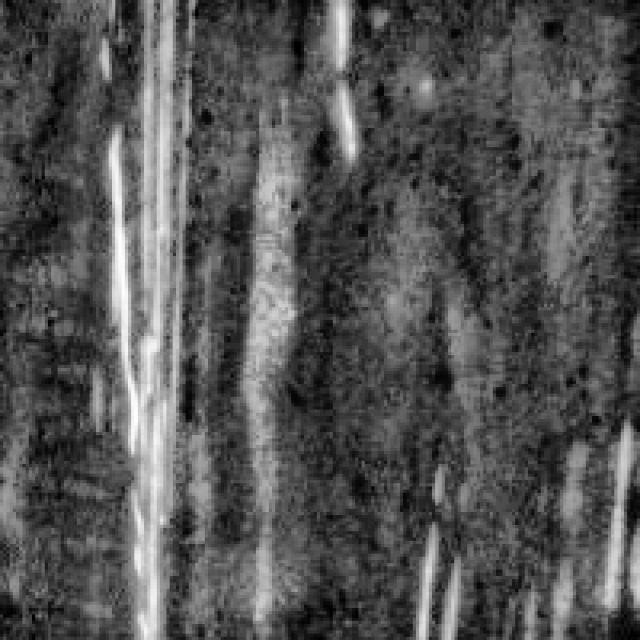Inclusion: (99, 0, 201, 630), (406, 442, 471, 634), (320, 0, 368, 170)
